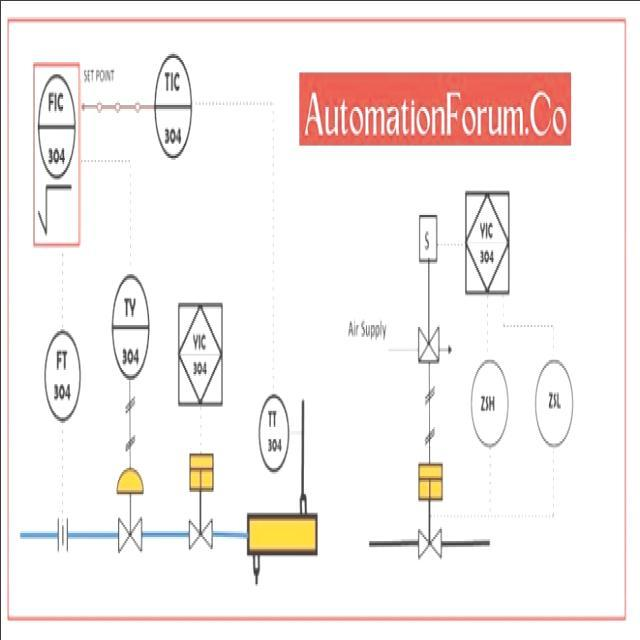3 Way Gate Valve: (412, 318, 442, 376)
Orifice: (49, 510, 71, 561)
Pneumatic-Diaphragm Gate Valve: (114, 456, 144, 562)
Rotary Piston-Pneumatic Gate Valve: (177, 438, 220, 560), (404, 450, 447, 564)
